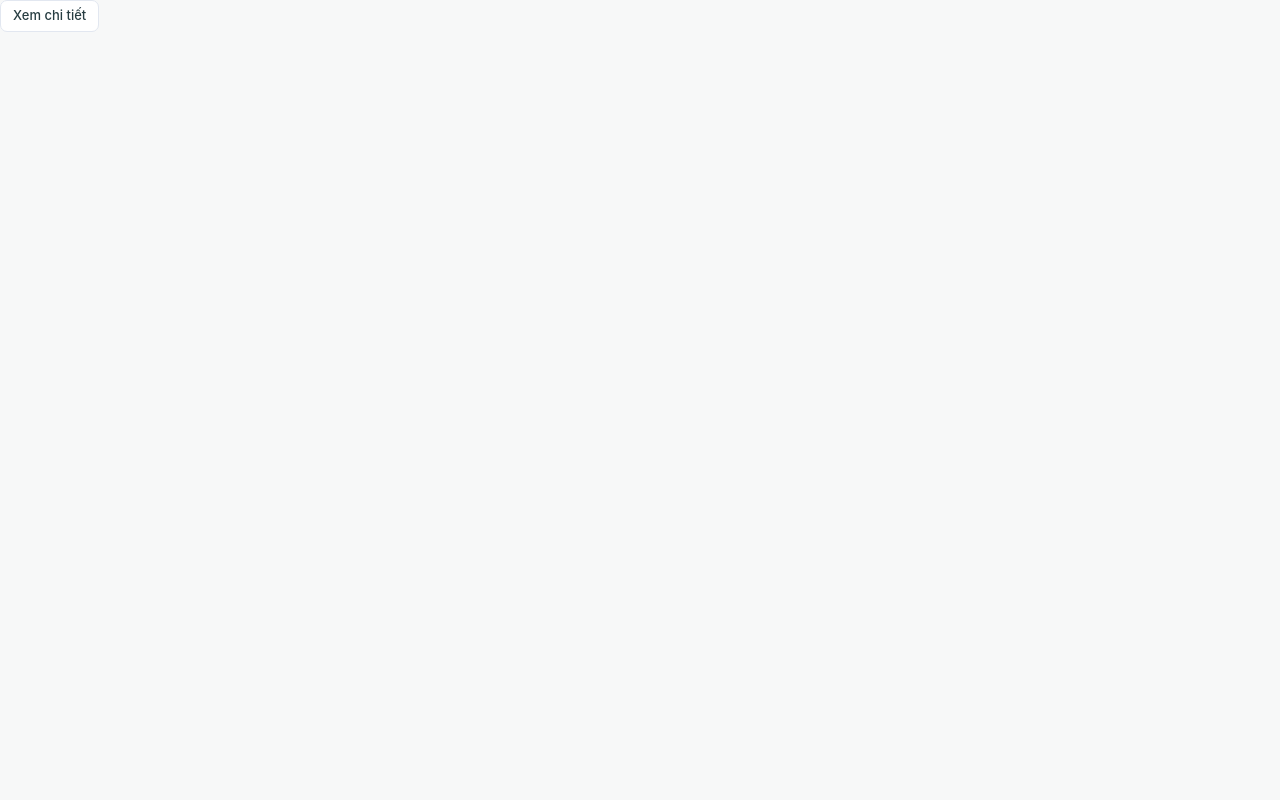
Test case: JobActivity › lists the worker messages (newest first) in the details popup
The image size is (1280, 800).
Click the button "Xem chi tiết".
click(50, 16)  # box left=0, top=0, right=99, bottom=32
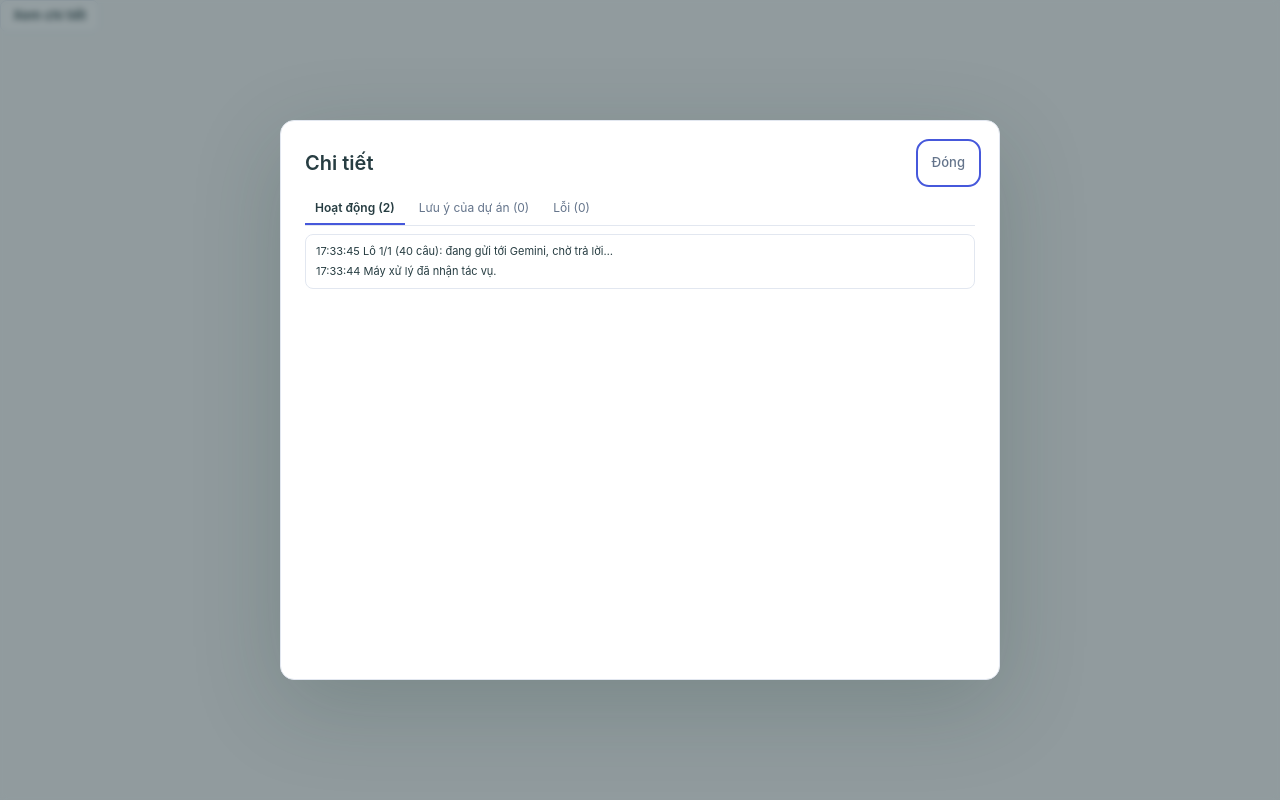
Check: the list item "17:33:45 Lô 1/1 (40 câu): đang gửi tới Gemini, chờ trả lời…" is shown, box left=316, top=244, right=613, bottom=258
Check: the list item "17:33:44 Máy xử lý đã nhận tác vụ." is shown, box left=316, top=264, right=496, bottom=278
